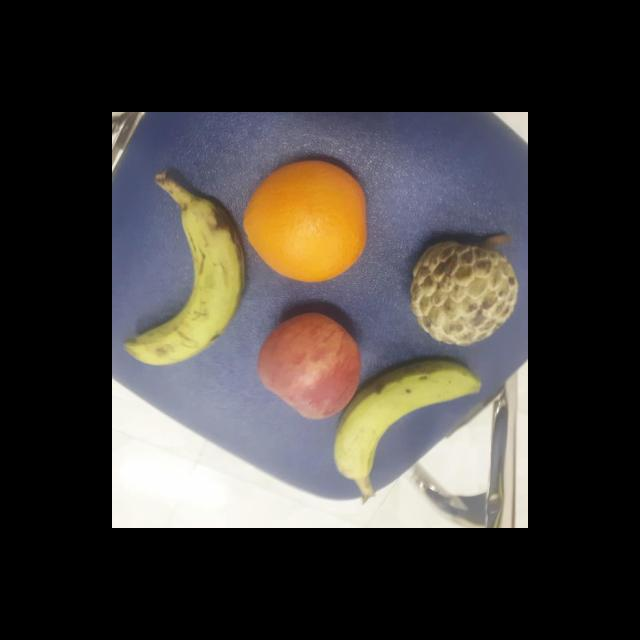Sakya fruit: (404, 228, 522, 349)
apple: (252, 311, 364, 424)
banana: (118, 195, 250, 370), (332, 358, 486, 483)
orange: (240, 155, 370, 287)
